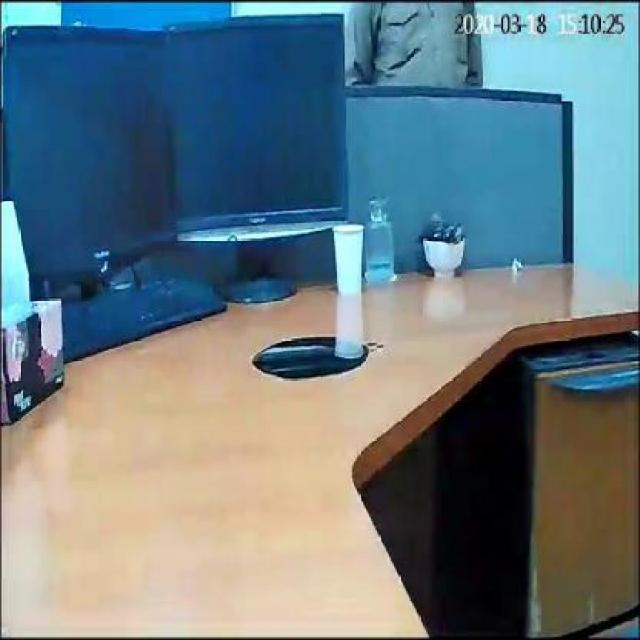spill: (250, 330, 381, 387)
